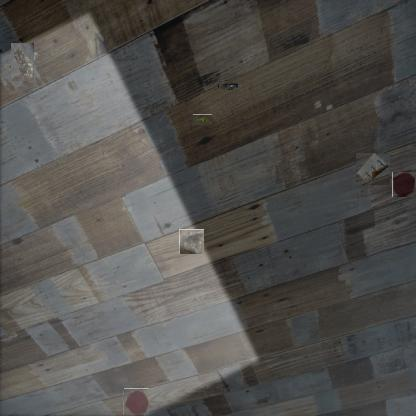dirty: (356, 153, 390, 185), (7, 47, 37, 77), (179, 229, 204, 254), (192, 114, 212, 125), (218, 80, 238, 90)
liquid: (123, 388, 149, 415), (392, 171, 415, 197)
